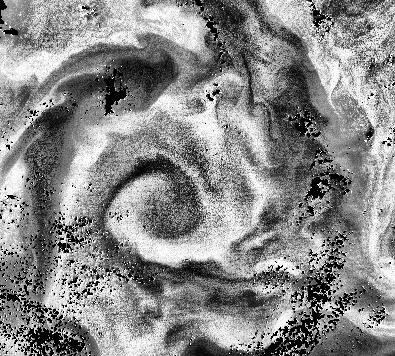AE: (70, 101, 243, 265)
